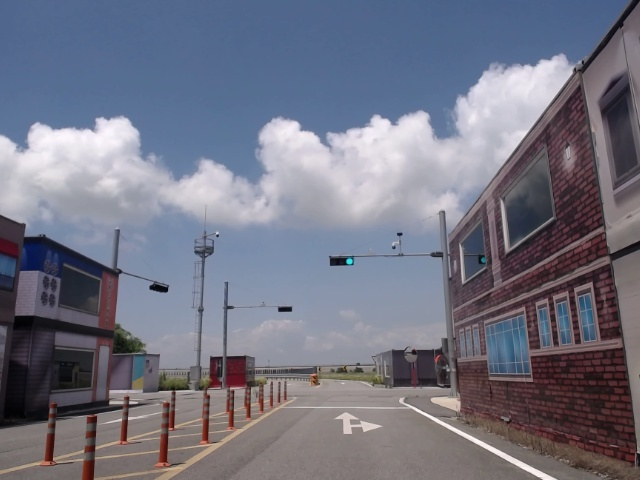green_3: (330, 257, 354, 265)
